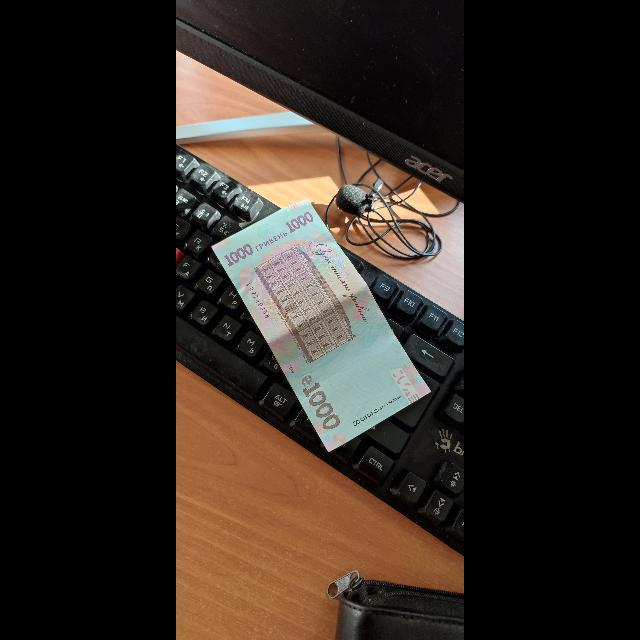1000uah: (212, 197, 430, 454)
